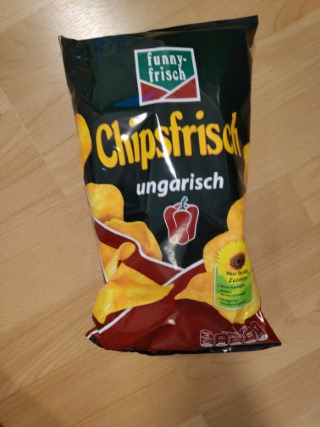chipsfrisch: (56, 14, 284, 358)
